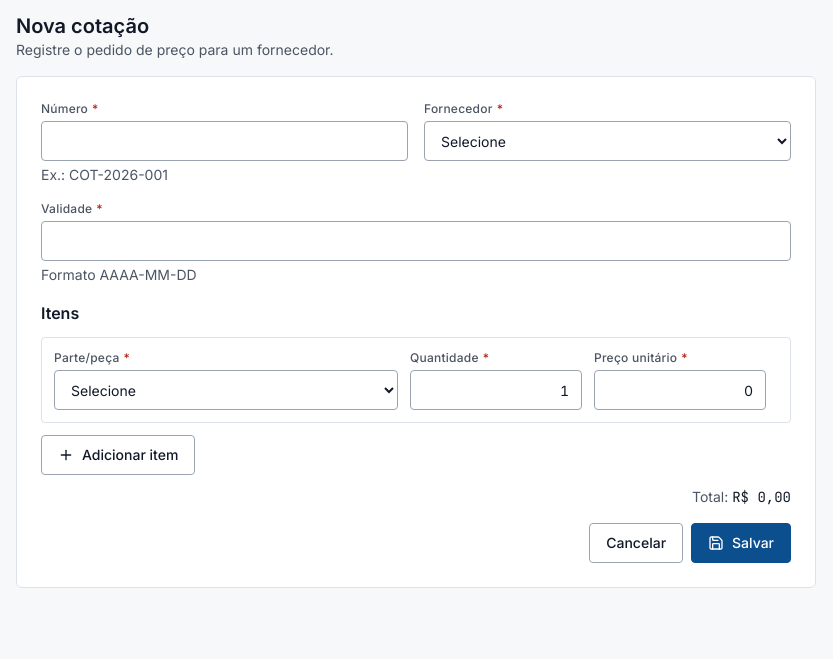
Scenario: NovaCotacao › conflito 409 mostra alerta e nao navega
Type "COT-2026-001" into the field labelled "Número*" at (224, 141), box [41,121,408,161]
Select "Componentes Silva Ltda" in the dropdown labelled "Fornecedor*" at (608, 141), box [424,121,791,161]
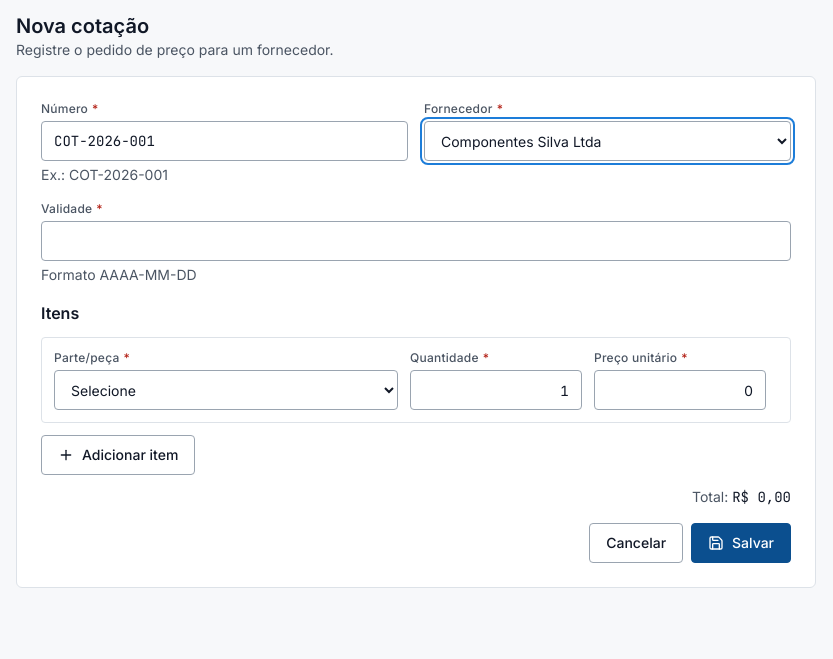
Type "2026-09-25" into the field labelled "Validade*" at (416, 241), box [41,221,791,261]
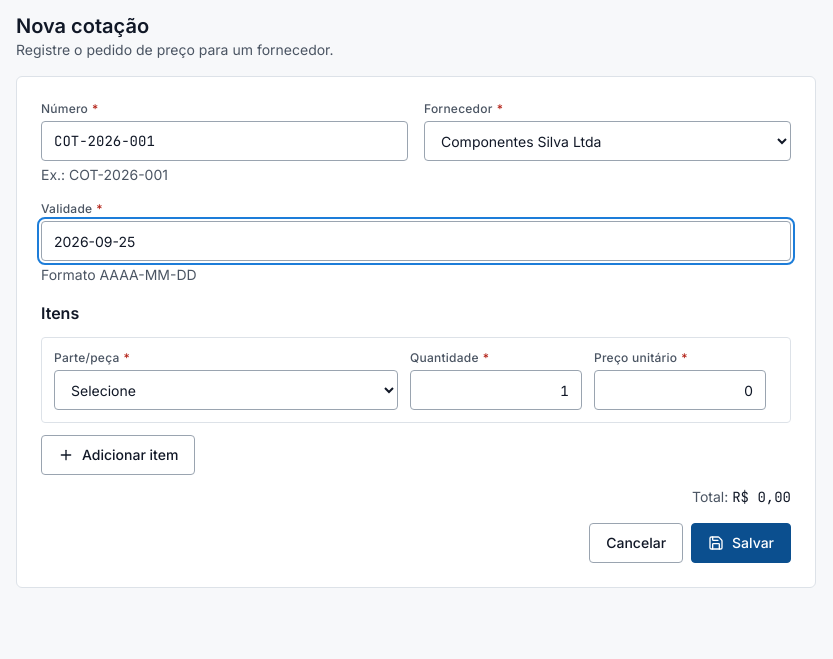
Select "RES-10K — Resistor" in the dropdown labelled "Parte/peça*" at (226, 390), box [54,370,398,410]
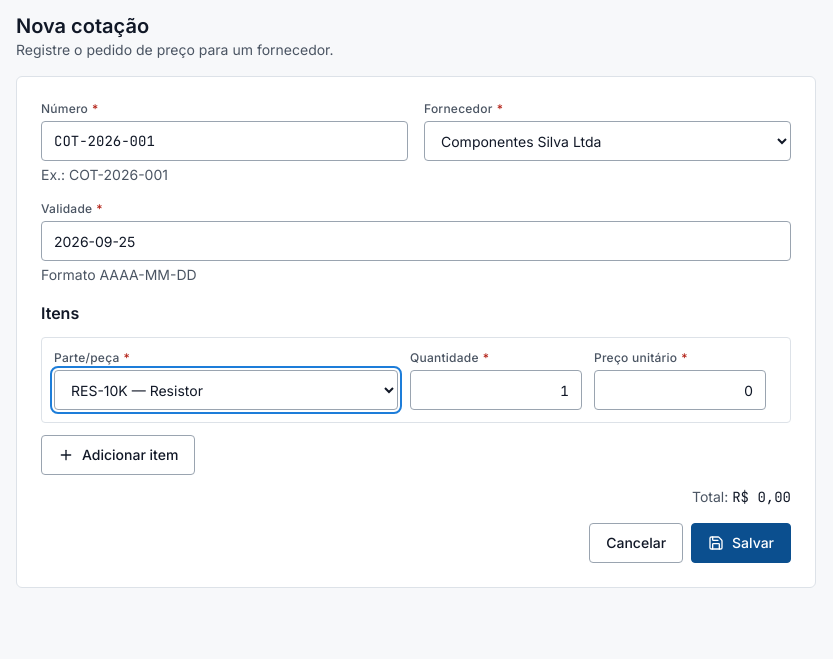
Replace the text in the field labelled "Quantidade*" with "100" at (496, 390), box [410,370,582,410]
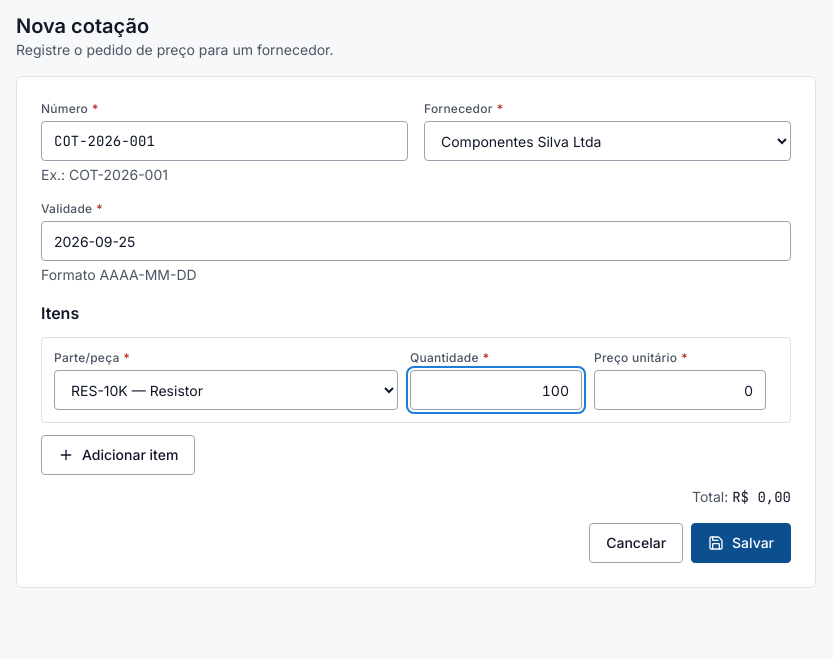
Replace the text in the field labelled "Preço unitário*" with "50" at (680, 390), box [594,370,766,410]
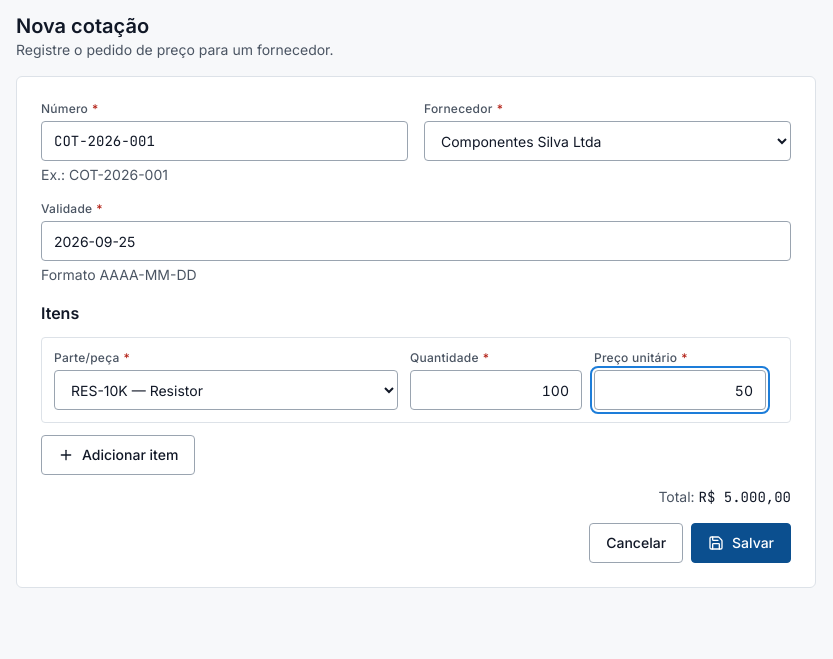
Click the button "Salvar" at (741, 543), box [691,523,791,563]
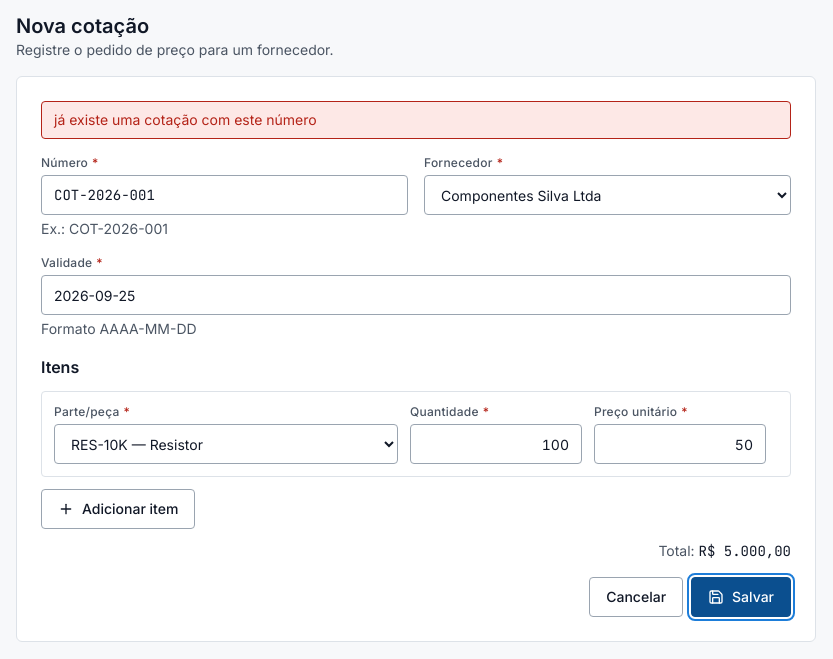
Expected: the message reads "já existe uma cotação com este número", [54,111,317,128]
